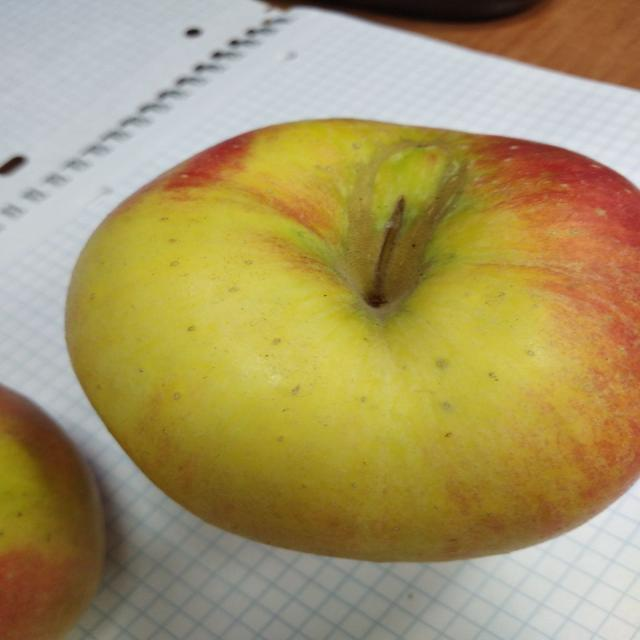Fresh Apple: (60, 112, 640, 562)
